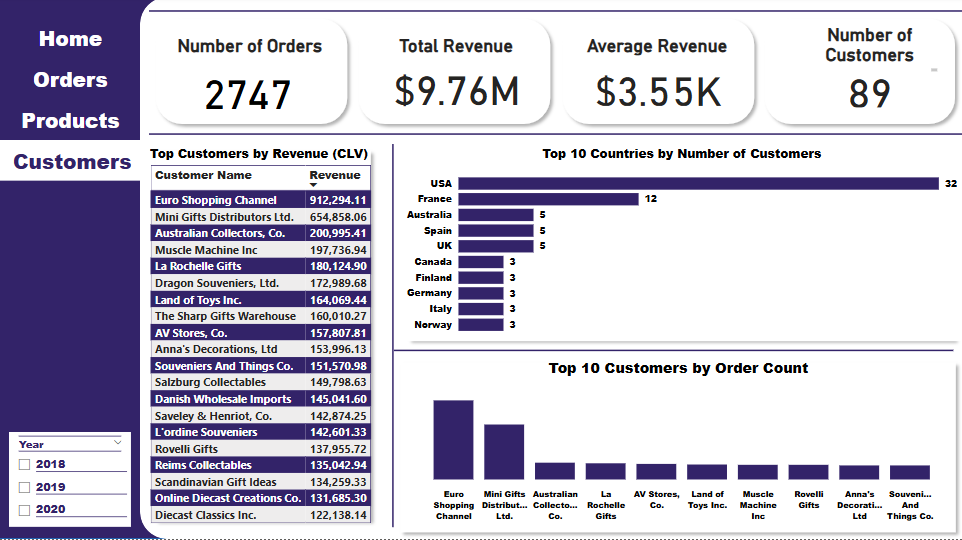

The page's visual inventory and layout, read from the dashboard file:
{"tool":"powerbi","page":{"name":"Customers","canvas":[1280,720],"ordinal":2},"visuals":[{"type":"shape","box":[739.9,20.1,272.4,157.9],"z":0,"group":"g1"},{"type":"actionButton","box":[640,36.3,152.9,52],"z":0},{"type":"shape","box":[1009.2,20.1,270.9,157.9],"z":1000,"group":"g1"},{"type":"shape","box":[766.1,244.3,290,138.7],"z":1000},{"type":"shape","box":[0,0,933.3,719.7],"z":2000},{"type":"shape","box":[469,20.1,272.4,157.9],"z":2000,"group":"g1"},{"type":"shape","box":[187.3,0,1093.2,720],"z":3000},{"type":"shape","box":[199.7,20.1,272.4,157.9],"z":3000,"group":"g1"},{"type":"actionButton","box":[2.6,26.3,184.4,54.1],"z":4000},{"type":"textbox","title":"Number of Orders","box":[208.4,50.9,249.2,29.4],"z":4000,"group":"g1"},{"type":"actionButton","box":[2.6,81,184.4,54.1],"z":5000},{"type":"textbox","title":"Total Revenue","box":[489.1,51.1,249.2,29.4],"z":6000},{"type":"actionButton","box":[0,190.2,194.6,54.1],"z":7000},{"type":"actionButton","box":[2.6,135.6,184.4,54.1],"z":8000},{"type":"group","id":"g1","title":"Group 1","box":[199.7,20.1,1080.3,157.9],"z":9000},{"type":"card","fields":{"Values":["Orders.NumberOf Orders"]},"box":[230.6,85.1,198.1,74.3],"z":10000},{"type":"textbox","title":"Total Revenue","box":[489.1,51.1,236.8,29.4],"z":11000},{"type":"textbox","title":"Average Revenue","box":[760,51.1,229.1,29.4],"z":12000},{"type":"textbox","title":"Number of Customers","box":[1061.8,35.6,190.4,68.1],"z":13000},{"type":"card","fields":{"Values":["Orders.Total Revenue"]},"box":[501.5,85.1,215.1,65],"z":14000},{"type":"card","fields":{"Values":["Orders.AVG Sales"]},"box":[778.5,88.2,195,61.9],"z":15000},{"type":"card","fields":{"Values":["Customers.NumberOf Customers"]},"box":[1114.4,91.3,85.1,60.4],"z":16000},{"type":"shape","box":[199,36.6,1080,289.8],"z":17000},{"type":"shape","box":[199.7,0,1080.3,37.1],"z":18000},{"type":"shape","box":[198.8,195.3,303.4,509.2],"z":19000},{"type":"tableEx","title":"Top Customers by Revenue (CLV)","fields":{"Values":["Customers.Customer Name","Sum(Orders.Sales)"]},"box":[194.6,194.6,307.3,509.3],"z":20000},{"type":"shape","box":[373.2,194.6,300,509.3],"z":21000},{"type":"shape","box":[535.6,194.6,743.4,269.3],"z":22000},{"type":"clusteredBarChart","title":"Top 10 Countries by Number of Customers","fields":{"Category":["Customers.Country"],"Y":["CountNonNull(Customers.Customer Name)"]},"box":[535.6,194.6,743.4,262],"z":23000},{"type":"shape","box":[525.4,326.3,743.4,285.4],"z":24000},{"type":"shape","box":[525.4,477.1,755.1,242.9],"z":25000},{"type":"clusteredColumnChart","title":"Top 10 Customers by Order Count","fields":{"Category":["Customers.Customer Name"],"Y":["CountNonNull(Orders.Order Number)"]},"box":[535.4,477.8,734.2,226.7],"z":26000},{"type":"slicer","fields":{"Values":["Orders.Year"]},"box":[13.2,578,162.4,125.9],"z":26002}]}

Visuals, with their boxes in screenshot pixels (x1, y1, x2, y2), scaled from the page's 1280x720 canvas onto the 962x540 screenshot:
shape: BBox(556, 15, 761, 134)
actionButton: BBox(481, 27, 596, 66)
shape: BBox(758, 15, 961, 134)
shape: BBox(576, 183, 794, 287)
shape: BBox(0, 0, 701, 539)
shape: BBox(352, 15, 557, 134)
shape: BBox(141, 0, 961, 539)
shape: BBox(150, 15, 355, 134)
actionButton: BBox(2, 20, 141, 60)
"Number of Orders" textbox: BBox(157, 38, 344, 60)
actionButton: BBox(2, 61, 141, 101)
"Total Revenue" textbox: BBox(368, 38, 555, 60)
actionButton: BBox(0, 143, 146, 183)
actionButton: BBox(2, 102, 141, 142)
"Group 1" group: BBox(150, 15, 961, 134)
card - Orders.NumberOf Orders: BBox(173, 64, 322, 120)
"Total Revenue" textbox: BBox(368, 38, 546, 60)
"Average Revenue" textbox: BBox(571, 38, 743, 60)
"Number of Customers" textbox: BBox(798, 27, 941, 78)
card - Orders.Total Revenue: BBox(377, 64, 539, 113)
card - Orders.AVG Sales: BBox(585, 66, 732, 113)
card - Customers.NumberOf Customers: BBox(838, 68, 901, 114)
shape: BBox(150, 27, 961, 245)
shape: BBox(150, 0, 961, 28)
shape: BBox(149, 146, 377, 528)
"Top Customers by Revenue (CLV)" tableEx: BBox(146, 146, 377, 528)
shape: BBox(280, 146, 506, 528)
shape: BBox(403, 146, 961, 348)
"Top 10 Countries by Number of Customers" clusteredBarChart: BBox(403, 146, 961, 342)
shape: BBox(395, 245, 954, 459)
shape: BBox(395, 358, 961, 539)
"Top 10 Customers by Order Count" clusteredColumnChart: BBox(402, 358, 954, 528)
slicer - Orders.Year: BBox(10, 434, 132, 528)
